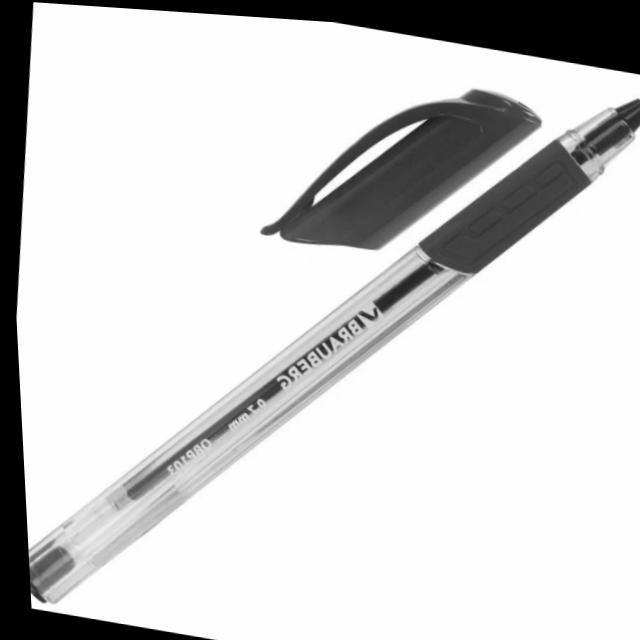pencil: (21, 86, 640, 616)
